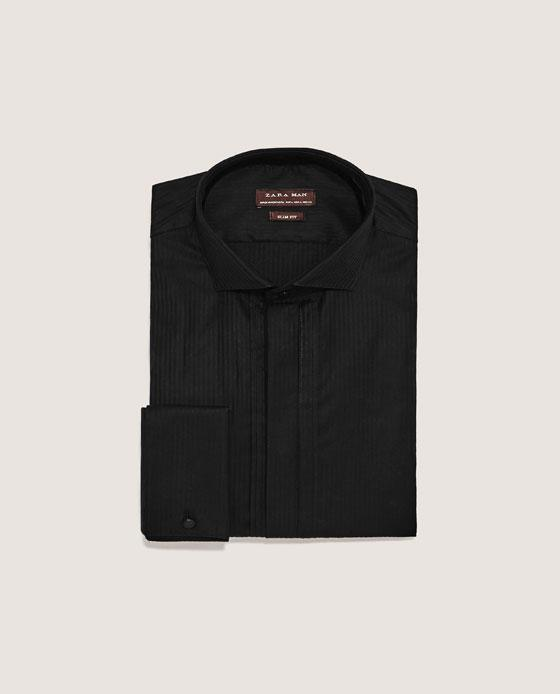teeshirt: (136, 141, 424, 555)
